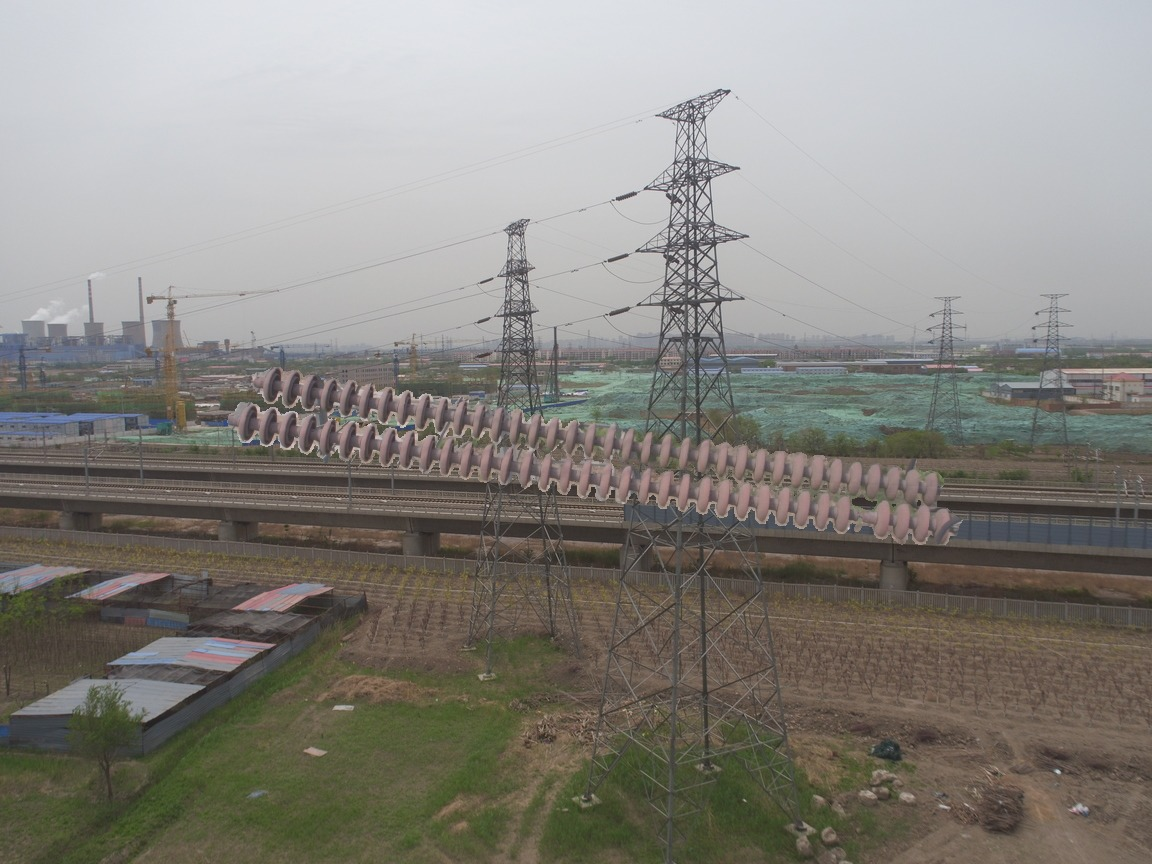defect: (827, 495, 898, 543)
